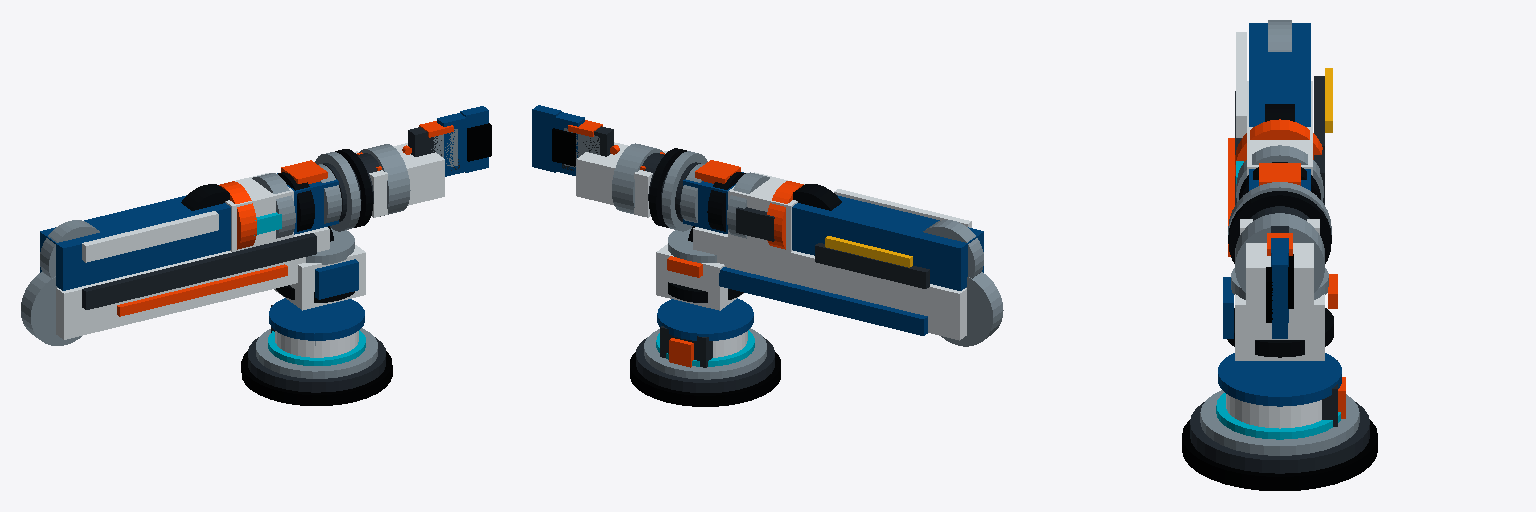
URDF robot description (marm_z1_style):
<?xml version="1.0" ?>
<!-- =================================================================================== -->
<!-- |    This document was autogenerated by xacro from src/marm_description/urdf/marm_z1_style.xacro | -->
<!-- |    EDITING THIS FILE BY HAND IS NOT RECOMMENDED                                 | -->
<!-- =================================================================================== -->
<robot name="marm_z1_style">
  <!-- Z1-inspired visual language, using the current project's palette and primitives. -->
  <material name="Graphite">
    <color rgba="0.055 0.070 0.085 1"/>
  </material>
  <material name="Gunmetal">
    <color rgba="0.16 0.19 0.22 1"/>
  </material>
  <material name="PearlWhite">
    <color rgba="0.88 0.91 0.93 1"/>
  </material>
  <material name="Aluminium">
    <color rgba="0.52 0.58 0.62 1"/>
  </material>
  <material name="OceanBlue">
    <color rgba="0.02 0.30 0.52 1"/>
  </material>
  <material name="ElectricCyan">
    <color rgba="0.00 0.72 0.82 1"/>
  </material>
  <material name="SafetyOrange">
    <color rgba="1.00 0.30 0.035 1"/>
  </material>
  <material name="SignalYellow">
    <color rgba="1.00 0.73 0.06 1"/>
  </material>
  <material name="RubberBlack">
    <color rgba="0.018 0.022 0.026 1"/>
  </material>
  <!-- Base and shoulder motor module -->
  <link name="marm_z1_base_link">
    <visual>
      <origin rpy="0 0 0" xyz="0 0 -0.006"/>
      <geometry>
        <cylinder length="0.012" radius="0.074"/>
      </geometry>
      <material name="RubberBlack"/>
    </visual>
    <visual>
      <origin rpy="0 0 0" xyz="0 0 0.004"/>
      <geometry>
        <cylinder length="0.014" radius="0.068"/>
      </geometry>
      <material name="Gunmetal"/>
    </visual>
    <visual>
      <origin rpy="0 0 0" xyz="0 0 0.015"/>
      <geometry>
        <cylinder length="0.008" radius="0.06"/>
      </geometry>
      <material name="Aluminium"/>
    </visual>
    <visual>
      <origin rpy="0 0 0" xyz="0 0 0.022"/>
      <geometry>
        <cylinder length="0.006" radius="0.048"/>
      </geometry>
      <material name="ElectricCyan"/>
    </visual>
  </link>
  <joint name="marm_z1_base_joint" type="fixed">
    <origin rpy="0 0 0" xyz="0 0 0.025"/>
    <parent link="marm_z1_base_link"/>
    <child link="marm_z1_link00"/>
  </joint>
  <link name="marm_z1_link00">
    <visual>
      <origin rpy="0 0 0" xyz="0 0 0"/>
      <geometry>
        <cylinder length="0.046" radius="0.041"/>
      </geometry>
      <material name="PearlWhite"/>
    </visual>
    <visual>
      <origin rpy="0 0 0" xyz="0 0 -0.025"/>
      <geometry>
        <cylinder length="0.008" radius="0.047"/>
      </geometry>
      <material name="Graphite"/>
    </visual>
    <visual>
      <origin rpy="0 0 0" xyz="0 0 0.025"/>
      <geometry>
        <cylinder length="0.008" radius="0.047"/>
      </geometry>
      <material name="OceanBlue"/>
    </visual>
    <visual>
      <origin rpy="0 0 0" xyz="0 0.030 0"/>
      <geometry>
        <box size="0.052 0.028 0.052"/>
      </geometry>
      <material name="Gunmetal"/>
    </visual>
    <visual>
      <origin rpy="0 0 0" xyz="0 0.046 0"/>
      <geometry>
        <box size="0.024 0.008 0.036"/>
      </geometry>
      <material name="SafetyOrange"/>
    </visual>
    <visual>
      <origin rpy="0 0 0" xyz="0 -0.031 0.018"/>
      <geometry>
        <box size="0.044 0.008 0.010"/>
      </geometry>
      <material name="Aluminium"/>
    </visual>
    <collision>
      <origin rpy="0 0 0" xyz="0 0 0"/>
      <geometry>
        <cylinder length="0.050" radius="0.033"/>
      </geometry>
    </collision>
    <inertial>
      <mass value="0.48"/>
      <inertia ixx="0.00023068000000000003" ixy="0" ixz="0" iyy="0.00023068000000000003" iyz="0" izz="0.00026136000000000003"/>
    </inertial>
  </link>
  <joint name="marm_z1_joint1" type="revolute">
    <origin rpy="0 0 0" xyz="0 0 0.055"/>
    <parent link="marm_z1_link00"/>
    <child link="marm_z1_link01"/>
    <axis xyz="0 0 1"/>
    <limit effort="30" lower="-2.61799" upper="2.61799" velocity="3.14"/>
  </joint>
  <!-- Shoulder housing -->
  <link name="marm_z1_link01">
    <visual>
      <origin rpy="0 0 0" xyz="0 0 0.022"/>
      <geometry>
        <box size="0.072 0.068 0.046"/>
      </geometry>
      <material name="PearlWhite"/>
    </visual>
    <visual>
      <origin rpy="0 0 0" xyz="0 0 0.010"/>
      <geometry>
        <cylinder length="0.012" radius="0.041"/>
      </geometry>
      <material name="Graphite"/>
    </visual>
    <visual>
      <origin rpy="0 0 0" xyz="0 0 0.048"/>
      <geometry>
        <cylinder length="0.01" radius="0.037"/>
      </geometry>
      <material name="Aluminium"/>
    </visual>
    <visual>
      <origin rpy="0 0 0" xyz="0 -0.039 0.026"/>
      <geometry>
        <box size="0.046 0.008 0.030"/>
      </geometry>
      <material name="OceanBlue"/>
    </visual>
    <visual>
      <origin rpy="0 0 0" xyz="0 0.040 0.040"/>
      <geometry>
        <box size="0.036 0.008 0.012"/>
      </geometry>
      <material name="SafetyOrange"/>
    </visual>
    <collision>
      <origin rpy="0 0 0" xyz="0 0 0.022"/>
      <geometry>
        <box size="0.060 0.060 0.045"/>
      </geometry>
    </collision>
    <inertial>
      <mass value="0.62"/>
      <inertia ixx="0.000290625" ixy="0" ixz="0" iyy="0.000290625" iyz="0" izz="0.000372"/>
    </inertial>
  </link>
  <joint name="marm_z1_joint2" type="revolute">
    <origin rpy="0 0 0" xyz="0 0 0.050"/>
    <parent link="marm_z1_link01"/>
    <child link="marm_z1_link02"/>
    <axis xyz="0 1 0"/>
    <limit effort="60" lower="0" upper="2.96706" velocity="3.14"/>
  </joint>
  <!-- Long offset upper arm, with exposed side rails like the Z1 silhouette -->
  <link name="marm_z1_link02">
    <visual>
      <origin rpy="0 0 0" xyz="-0.15 0 0"/>
      <geometry>
        <box size="0.3 0.050 0.050"/>
      </geometry>
      <material name="PearlWhite"/>
    </visual>
    <visual>
      <origin rpy="0 0 0" xyz="-0.15 -0.030 0.016"/>
      <geometry>
        <box size="0.260 0.008 0.020"/>
      </geometry>
      <material name="Gunmetal"/>
    </visual>
    <visual>
      <origin rpy="0 0 0" xyz="-0.15 0.030 -0.016"/>
      <geometry>
        <box size="0.230 0.008 0.018"/>
      </geometry>
      <material name="OceanBlue"/>
    </visual>
    <visual>
      <origin rpy="0 0 0" xyz="-0.15 -0.036 -0.002"/>
      <geometry>
        <box size="0.190 0.006 0.010"/>
      </geometry>
      <material name="SafetyOrange"/>
    </visual>
    <visual>
      <origin rpy="1.5707963267948966 0 0" xyz="-0.025 0 0"/>
      <geometry>
        <cylinder length="0.02" radius="0.039"/>
      </geometry>
      <material name="Graphite"/>
    </visual>
    <visual>
      <origin rpy="1.5707963267948966 0 0" xyz="-0.29 0 0"/>
      <geometry>
        <cylinder length="0.02" radius="0.039"/>
      </geometry>
      <material name="Aluminium"/>
    </visual>
    <collision>
      <origin rpy="0 1.5707963267948966 0" xyz="-0.15 0 0"/>
      <geometry>
        <cylinder length="0.3" radius="0.023"/>
      </geometry>
    </collision>
    <inertial>
      <mass value="1.18"/>
      <inertia ixx="0.009006055" ixy="0" ixz="0" iyy="0.009006055" iyz="0" izz="0.00031211"/>
    </inertial>
  </link>
  <joint name="marm_z1_joint3" type="revolute">
    <origin rpy="0 0 0" xyz="-0.3 0 0"/>
    <parent link="marm_z1_link02"/>
    <child link="marm_z1_link03"/>
    <axis xyz="0 1 0"/>
    <limit effort="30" lower="-2.87979" upper="0" velocity="3.14"/>
  </joint>
  <!-- Return arm and elbow motor shell -->
  <link name="marm_z1_link03">
    <visual>
      <origin rpy="0 0 0" xyz="0.095 0 0.050"/>
      <geometry>
        <box size="0.19 0.046 0.046"/>
      </geometry>
      <material name="OceanBlue"/>
    </visual>
    <visual>
      <origin rpy="0 0 0" xyz="0.095 -0.029 0.066"/>
      <geometry>
        <box size="0.150 0.008 0.018"/>
      </geometry>
      <material name="PearlWhite"/>
    </visual>
    <visual>
      <origin rpy="0 0 0" xyz="0.095 0.030 0.035"/>
      <geometry>
        <box size="0.125 0.008 0.018"/>
      </geometry>
      <material name="Gunmetal"/>
    </visual>
    <visual>
      <origin rpy="0 0 0" xyz="0.095 0.037 0.053"/>
      <geometry>
        <box size="0.095 0.006 0.010"/>
      </geometry>
      <material name="SignalYellow"/>
    </visual>
    <visual>
      <origin rpy="1.5707963267948966 0 0" xyz="0.026 0 0.050"/>
      <geometry>
        <cylinder length="0.018" radius="0.034"/>
      </geometry>
      <material name="Aluminium"/>
    </visual>
    <visual>
      <origin rpy="1.5707963267948966 0 0" xyz="0.18 0 0.050"/>
      <geometry>
        <cylinder length="0.022" radius="0.036"/>
      </geometry>
      <material name="Graphite"/>
    </visual>
    <collision>
      <origin rpy="0 1.5707963267948966 0" xyz="0.095 0 0.050"/>
      <geometry>
        <cylinder length="0.19" radius="0.020"/>
      </geometry>
    </collision>
    <inertial>
      <mass value="0.82"/>
      <inertia ixx="0.002548833333333333" ixy="0" ixz="0" iyy="0.002548833333333333" iyz="0" izz="0.00016399999999999997"/>
    </inertial>
  </link>
  <joint name="marm_z1_joint4" type="revolute">
    <origin rpy="0 0 0" xyz="0.19 0 0.050"/>
    <parent link="marm_z1_link03"/>
    <child link="marm_z1_link04"/>
    <axis xyz="0 1 0"/>
    <limit effort="30" lower="-1.51844" upper="1.51844" velocity="3.14"/>
  </joint>
  <!-- Three compact wrist modules -->
  <link name="marm_z1_link04">
    <visual>
      <origin rpy="0 0 0" xyz="0.035 0 0"/>
      <geometry>
        <box size="0.07 0.050 0.050"/>
      </geometry>
      <material name="PearlWhite"/>
    </visual>
    <visual>
      <origin rpy="0 1.5707963267948966 0" xyz="0.014 0 0"/>
      <geometry>
        <cylinder length="0.018" radius="0.034"/>
      </geometry>
      <material name="SafetyOrange"/>
    </visual>
    <visual>
      <origin rpy="0 1.5707963267948966 0" xyz="0.058 0 0"/>
      <geometry>
        <cylinder length="0.018" radius="0.033"/>
      </geometry>
      <material name="Aluminium"/>
    </visual>
    <visual>
      <origin rpy="0 0 0" xyz="0.035 0.030 0"/>
      <geometry>
        <box size="0.042 0.008 0.026"/>
      </geometry>
      <material name="Gunmetal"/>
    </visual>
    <visual>
      <origin rpy="0 0 0" xyz="0.035 -0.030 0"/>
      <geometry>
        <box size="0.034 0.006 0.016"/>
      </geometry>
      <material name="ElectricCyan"/>
    </visual>
    <collision>
      <origin rpy="0 1.5707963267948966 0" xyz="0.035 0 0"/>
      <geometry>
        <cylinder length="0.07" radius="0.026"/>
      </geometry>
    </collision>
    <inertial>
      <mass value="0.55"/>
      <inertia ixx="0.00031753333333333337" ixy="0" ixz="0" iyy="0.00031753333333333337" iyz="0" izz="0.0001859"/>
    </inertial>
  </link>
  <joint name="marm_z1_joint5" type="revolute">
    <origin rpy="0 0 0" xyz="0.07 0 0"/>
    <parent link="marm_z1_link04"/>
    <child link="marm_z1_link05"/>
    <axis xyz="0 0 1"/>
    <limit effort="30" lower="-1.34390" upper="1.34390" velocity="3.14"/>
  </joint>
  <link name="marm_z1_link05">
    <visual>
      <origin rpy="0 0 0" xyz="0.026 0 0"/>
      <geometry>
        <box size="0.052 0.046 0.046"/>
      </geometry>
      <material name="OceanBlue"/>
    </visual>
    <visual>
      <origin rpy="0 1.5707963267948966 0" xyz="0.012 0 0"/>
      <geometry>
        <cylinder length="0.016" radius="0.031"/>
      </geometry>
      <material name="Graphite"/>
    </visual>
    <visual>
      <origin rpy="0 1.5707963267948966 0" xyz="0.043 0 0"/>
      <geometry>
        <cylinder length="0.016" radius="0.03"/>
      </geometry>
      <material name="Aluminium"/>
    </visual>
    <visual>
      <origin rpy="0 0 0" xyz="0.026 0 0.028"/>
      <geometry>
        <box size="0.034 0.032 0.008"/>
      </geometry>
      <material name="SafetyOrange"/>
    </visual>
    <collision>
      <origin rpy="0 1.5707963267948966 0" xyz="0.026 0 0"/>
      <geometry>
        <cylinder length="0.052" radius="0.024"/>
      </geometry>
    </collision>
    <inertial>
      <mass value="0.4"/>
      <inertia ixx="0.00014773333333333334" ixy="0" ixz="0" iyy="0.00014773333333333334" iyz="0" izz="0.00011520000000000001"/>
    </inertial>
  </link>
  <joint name="marm_z1_joint6" type="revolute">
    <origin rpy="0 0 0" xyz="0.052 0 0"/>
    <parent link="marm_z1_link05"/>
    <child link="marm_z1_link06"/>
    <axis xyz="1 0 0"/>
    <limit effort="30" lower="-2.79253" upper="2.79253" velocity="3.14"/>
  </joint>
  <link name="marm_z1_link06">
    <visual>
      <origin rpy="0 1.5707963267948966 0" xyz="0.025 0 0"/>
      <geometry>
        <cylinder length="0.05" radius="0.03"/>
      </geometry>
      <material name="Gunmetal"/>
    </visual>
    <visual>
      <origin rpy="0 1.5707963267948966 0" xyz="0.010 0 0"/>
      <geometry>
        <cylinder length="0.01" radius="0.039"/>
      </geometry>
      <material name="Aluminium"/>
    </visual>
    <visual>
      <origin rpy="0 1.5707963267948966 0" xyz="0.025 0 0"/>
      <geometry>
        <cylinder length="0.008" radius="0.039"/>
      </geometry>
      <material name="Graphite"/>
    </visual>
    <visual>
      <origin rpy="0 0 0" xyz="0.043 0 0"/>
      <geometry>
        <box size="0.016 0.060 0.044"/>
      </geometry>
      <material name="PearlWhite"/>
    </visual>
    <visual>
      <origin rpy="0 0 0" xyz="0.050 0 0.022"/>
      <geometry>
        <box size="0.010 0.040 0.006"/>
      </geometry>
      <material name="SafetyOrange"/>
    </visual>
    <collision>
      <origin rpy="0 1.5707963267948966 0" xyz="0.025 0 0"/>
      <geometry>
        <cylinder length="0.05" radius="0.026"/>
      </geometry>
    </collision>
    <inertial>
      <mass value="0.3"/>
      <inertia ixx="0.00011320000000000003" ixy="0" ixz="0" iyy="0.00011320000000000003" iyz="0" izz="0.00010139999999999998"/>
    </inertial>
  </link>
  <!-- Z1-like asymmetric gripper: fixed stator plus one revolute mover. -->
  <joint name="marm_z1_gripper_stator_joint" type="fixed">
    <origin rpy="0 0 0" xyz="0.05 0 0"/>
    <parent link="marm_z1_link06"/>
    <child link="marm_z1_gripper_stator"/>
  </joint>
  <link name="marm_z1_gripper_stator">
    <visual>
      <origin rpy="0 1.5707963267948966 0" xyz="0.012 0 0"/>
      <geometry>
        <cylinder length="0.024" radius="0.034"/>
      </geometry>
      <material name="Aluminium"/>
    </visual>
    <visual>
      <origin rpy="0 0 0" xyz="0.040 0 0"/>
      <geometry>
        <box size="0.056 0.052 0.040"/>
      </geometry>
      <material name="PearlWhite"/>
    </visual>
    <visual>
      <origin rpy="0 0 0" xyz="0.070 0 0.020"/>
      <geometry>
        <box size="0.050 0.014 0.048"/>
      </geometry>
      <material name="Gunmetal"/>
    </visual>
    <visual>
      <origin rpy="0 0 0" xyz="0.116 0 0.020"/>
      <geometry>
        <box size="0.026 0.012 0.062"/>
      </geometry>
      <material name="OceanBlue"/>
    </visual>
    <visual>
      <origin rpy="0 0 0" xyz="0.116 -0.008 0.020"/>
      <geometry>
        <box size="0.026 0.005 0.034"/>
      </geometry>
      <material name="RubberBlack"/>
    </visual>
    <visual>
      <origin rpy="1.5707963267948966 0 0" xyz="0.040 0 0.026"/>
      <geometry>
        <cylinder length="0.006" radius="0.004"/>
      </geometry>
      <material name="SafetyOrange"/>
    </visual>
    <collision>
      <origin rpy="0 0 0" xyz="0.082 0 0.020"/>
      <geometry>
        <box size="0.145 0.040 0.075"/>
      </geometry>
    </collision>
    <inertial>
      <mass value="0.52"/>
      <inertia ixx="0.00017766666666666668" ixy="0" ixz="0" iyy="0.00045933333333333335" iyz="0" izz="0.0004203333333333334"/>
    </inertial>
  </link>
  <joint name="marm_z1_gripper_joint" type="revolute">
    <origin rpy="0 0 0" xyz="0.055 0 0"/>
    <parent link="marm_z1_gripper_stator"/>
    <child link="marm_z1_gripper_mover"/>
    <axis xyz="0 1 0"/>
    <limit effort="30" lower="-1.5707963267948966" upper="0" velocity="3.14"/>
  </joint>
  <link name="marm_z1_gripper_mover">
    <visual>
      <origin rpy="1.5707963267948966 0 0" xyz="0 0 0"/>
      <geometry>
        <cylinder length="0.044" radius="0.012"/>
      </geometry>
      <material name="Graphite"/>
    </visual>
    <visual>
      <origin rpy="0 0 0" xyz="0.018 0 0.020"/>
      <geometry>
        <box size="0.040 0.014 0.040"/>
      </geometry>
      <material name="Aluminium"/>
    </visual>
    <visual>
      <origin rpy="0 0 0" xyz="0.035 0 0.020"/>
      <geometry>
        <box size="0.026 0.014 0.058"/>
      </geometry>
      <material name="OceanBlue"/>
    </visual>
    <visual>
      <origin rpy="0 0 0" xyz="0.037 0.008 0.020"/>
      <geometry>
        <box size="0.026 0.005 0.034"/>
      </geometry>
      <material name="RubberBlack"/>
    </visual>
    <visual>
      <origin rpy="0 0 0" xyz="0.018 0 0.042"/>
      <geometry>
        <box size="0.028 0.020 0.006"/>
      </geometry>
      <material name="SafetyOrange"/>
    </visual>
    <collision>
      <origin rpy="0 0 0" xyz="0.032 0 0.020"/>
      <geometry>
        <box size="0.070 0.028 0.052"/>
      </geometry>
    </collision>
    <inertial>
      <mass value="0.28"/>
      <inertia ixx="8.138666666666666e-05" ixy="0" ixz="0" iyy="0.0002605866666666667" iyz="0" izz="0.00021578666666666668"/>
    </inertial>
  </link>
  <link name="marm_z1_grasping_frame"/>
  <joint name="marm_z1_grasping_frame_joint" type="fixed">
    <origin rpy="0 0 0" xyz="0.120 0 0"/>
    <parent link="marm_z1_gripper_stator"/>
    <child link="marm_z1_grasping_frame"/>
  </joint>
</robot>

--- Render facts (derived) ---
The picture shows the robot from 3 angles, left to right: view 1: azimuth 30°, elevation 25°; view 2: azimuth 150°, elevation 25°; view 3: azimuth 270°, elevation 25°; orthographic projection.
Robot: marm_z1_style — 11 links, 10 joints (7 revolute, 3 fixed); root link marm_z1_base_link; default pose: all joints at 0.
Visible links, largest first — view 1: marm_z1_link02, marm_z1_link03, marm_z1_base_link, marm_z1_gripper_stator, marm_z1_link00, marm_z1_link04, marm_z1_link01, marm_z1_link06, marm_z1_link05, marm_z1_gripper_mover; view 2: marm_z1_link02, marm_z1_link03, marm_z1_base_link, marm_z1_gripper_stator, marm_z1_link00, marm_z1_link04, marm_z1_link01, marm_z1_link06, marm_z1_link05, marm_z1_gripper_mover; view 3: marm_z1_base_link, marm_z1_link03, marm_z1_link00, marm_z1_gripper_stator, marm_z1_link01, marm_z1_link04, marm_z1_link06, marm_z1_link05, marm_z1_link02, marm_z1_gripper_mover.
Boxes of the visible links, bbox=[...] form: marm_z1_link02: bbox=[21, 226, 333, 345]; marm_z1_link03: bbox=[40, 184, 230, 290]; marm_z1_base_link: bbox=[241, 328, 392, 405]; marm_z1_gripper_stator: bbox=[359, 106, 491, 216]; marm_z1_link00: bbox=[269, 298, 364, 357]; marm_z1_link04: bbox=[219, 173, 295, 251]; marm_z1_link01: bbox=[274, 228, 365, 310]; marm_z1_link06: bbox=[315, 149, 387, 231]; marm_z1_link05: bbox=[277, 160, 341, 234]; marm_z1_gripper_mover: bbox=[419, 113, 466, 176]; marm_z1_link02: bbox=[688, 226, 1003, 346]; marm_z1_link03: bbox=[792, 184, 983, 290]; marm_z1_base_link: bbox=[630, 328, 780, 406]; marm_z1_gripper_stator: bbox=[532, 105, 663, 216]; marm_z1_link00: bbox=[657, 298, 753, 367]; marm_z1_link04: bbox=[727, 172, 804, 252]; marm_z1_link01: bbox=[656, 228, 743, 310]; marm_z1_link06: bbox=[634, 148, 707, 231]; marm_z1_link05: bbox=[680, 160, 745, 233]; marm_z1_gripper_mover: bbox=[552, 112, 602, 175]; marm_z1_base_link: bbox=[1182, 390, 1377, 490]; marm_z1_link03: bbox=[1236, 20, 1332, 149]; marm_z1_link00: bbox=[1218, 353, 1345, 428]; marm_z1_gripper_stator: bbox=[1235, 213, 1324, 338]; marm_z1_link01: bbox=[1223, 268, 1337, 360]; marm_z1_link04: bbox=[1235, 119, 1324, 204]; marm_z1_link06: bbox=[1228, 182, 1331, 263]; marm_z1_link05: bbox=[1239, 162, 1320, 199]; marm_z1_link02: bbox=[1228, 81, 1312, 256]; marm_z1_gripper_mover: bbox=[1267, 233, 1293, 322].
Size in the robot's own frame: 0.52 by 0.148 by 0.243 metres.
Geometry: primitives only (box / cylinder / sphere), no mesh files.
